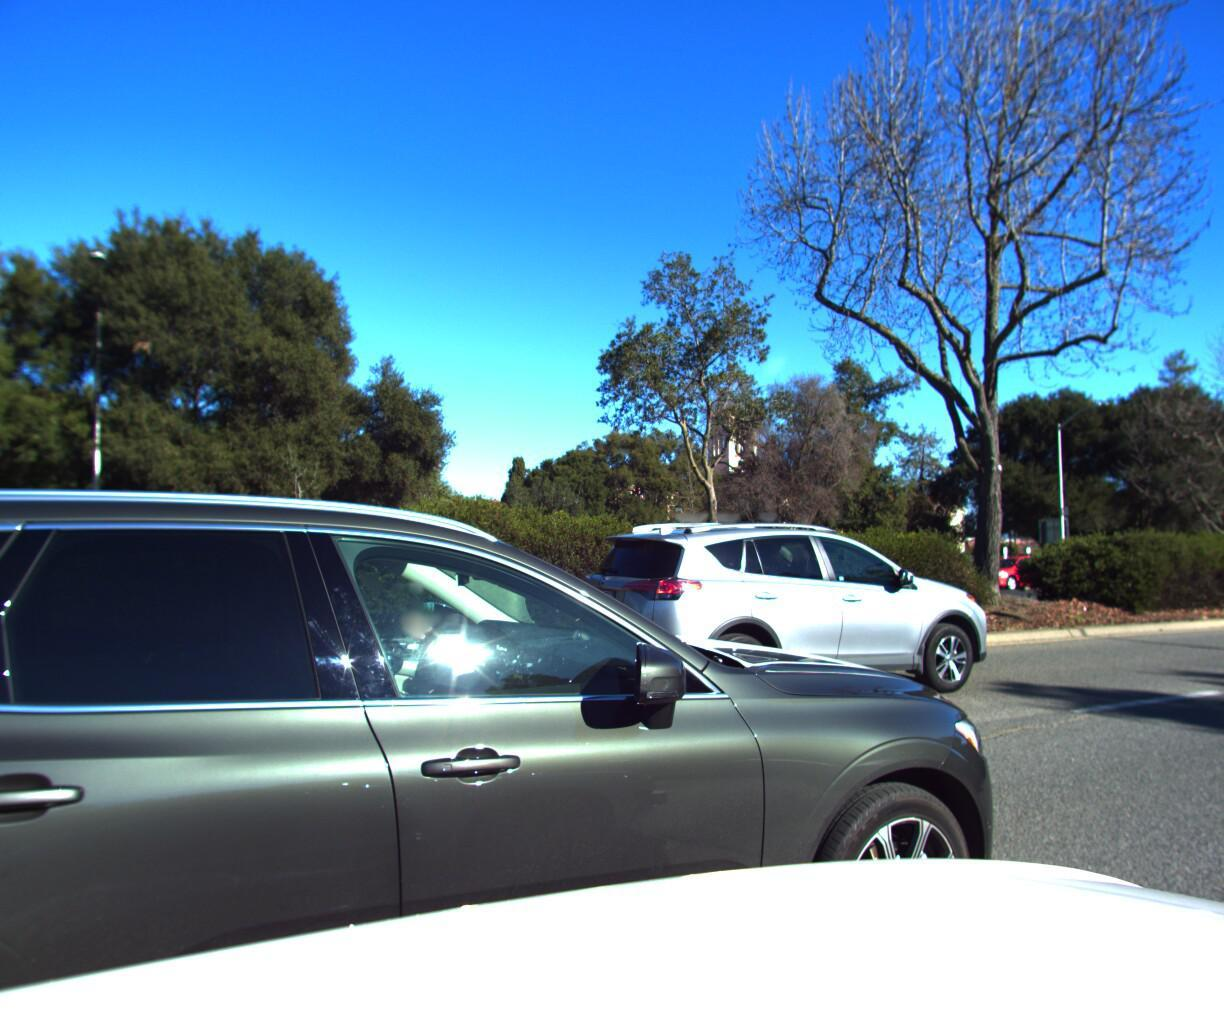car: (0, 413, 1065, 1024), (558, 523, 999, 732), (960, 550, 1051, 584)
